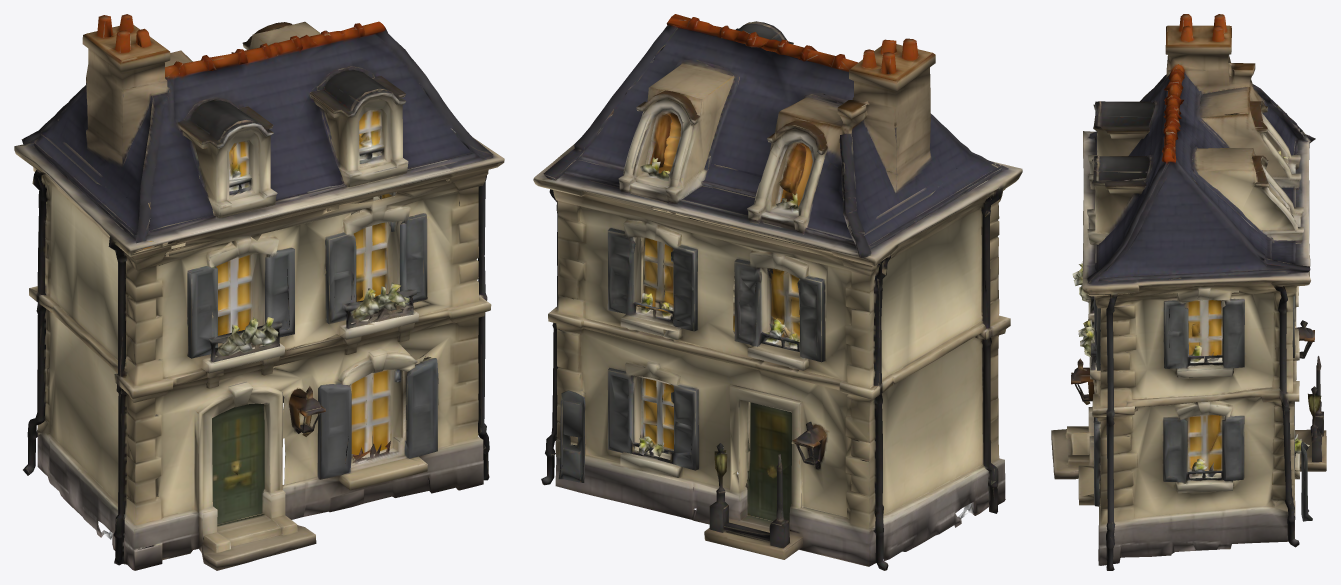
The picture shows the model from 3 angles, left to right: view 1: azimuth 30°, elevation 25°; view 2: azimuth 150°, elevation 25°; view 3: azimuth 270°, elevation 25°; orthographic projection. The views are drawn at different scales.
Parts seen in each view (by area): view 1: classic__villa_2__neural_lod; view 2: classic__villa_2__neural_lod; view 3: classic__villa_2__neural_lod.
Boxes of the visible parts, left/top/right/bottom form: classic__villa_2__neural_lod: left=14, top=14, right=504, bottom=570; classic__villa_2__neural_lod: left=533, top=14, right=1022, bottom=570; classic__villa_2__neural_lod: left=1051, top=14, right=1326, bottom=570.
Size of the model in its own units: 0.7971 by 1 by 0.5914.
1 material, 1 textured.
